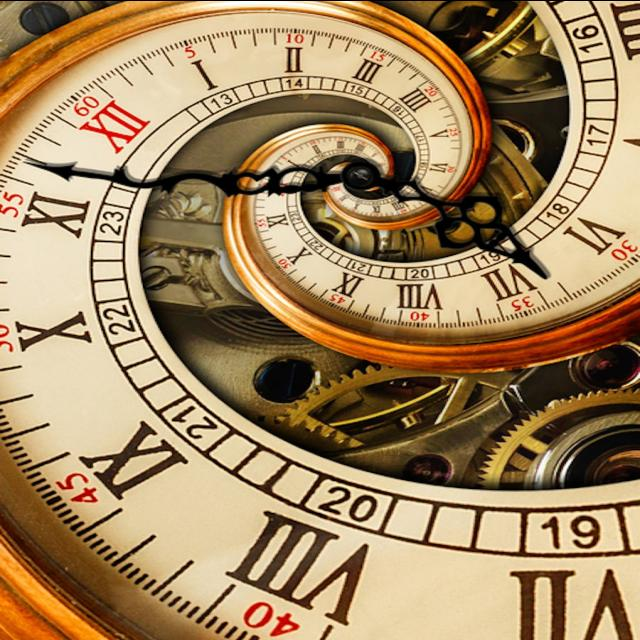clock: (14, 155, 388, 522)
